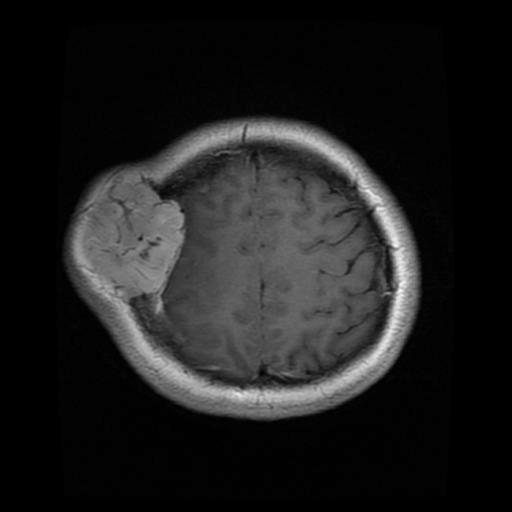Tumour-Meningioma: (73, 152, 202, 332)
